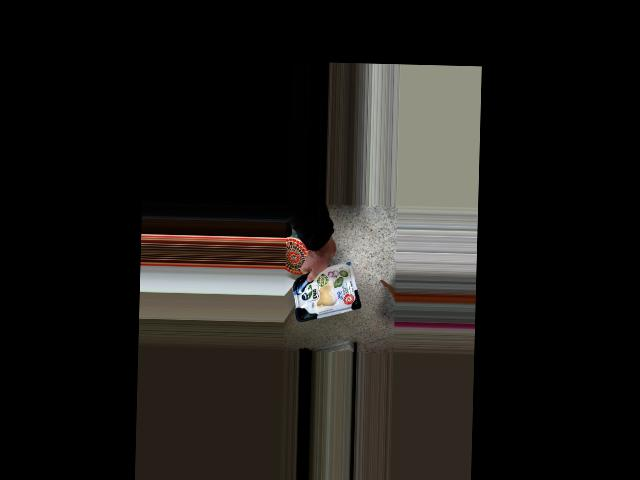cheese: (291, 260, 358, 323)
